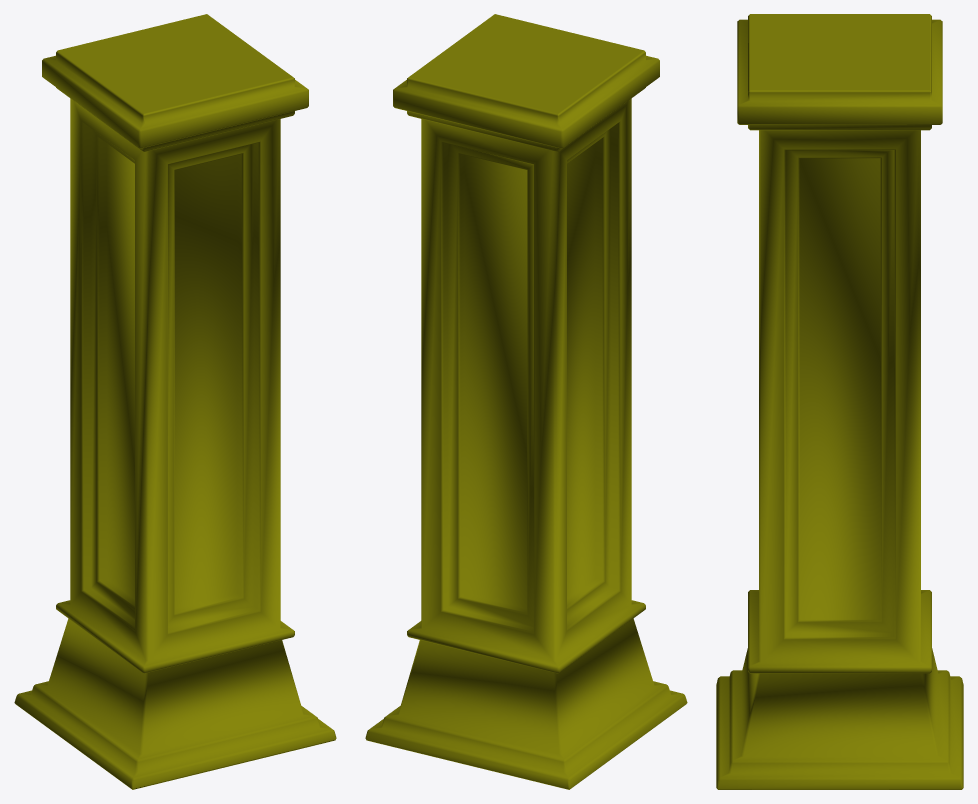
Rendered from W1_Pilier_Carre_2_7m.fbx.
3 views of the same model, side by side, from view 1: azimuth 30°, elevation 25°; view 2: azimuth 150°, elevation 25°; view 3: azimuth 270°, elevation 25° (orthographic). The views are drawn at different scales.
Parts seen in each view (by area): view 1: W1_Pilier_Carre_2_7m; view 2: W1_Pilier_Carre_2_7m; view 3: W1_Pilier_Carre_2_7m.
Boxes of the visible parts, x1=… form: W1_Pilier_Carre_2_7m: x1=14, y1=14, x2=336, y2=789; W1_Pilier_Carre_2_7m: x1=365, y1=14, x2=687, y2=789; W1_Pilier_Carre_2_7m: x1=716, y1=14, x2=963, y2=789.
Bounding box in the file's own units: 229 × 700 × 229.
